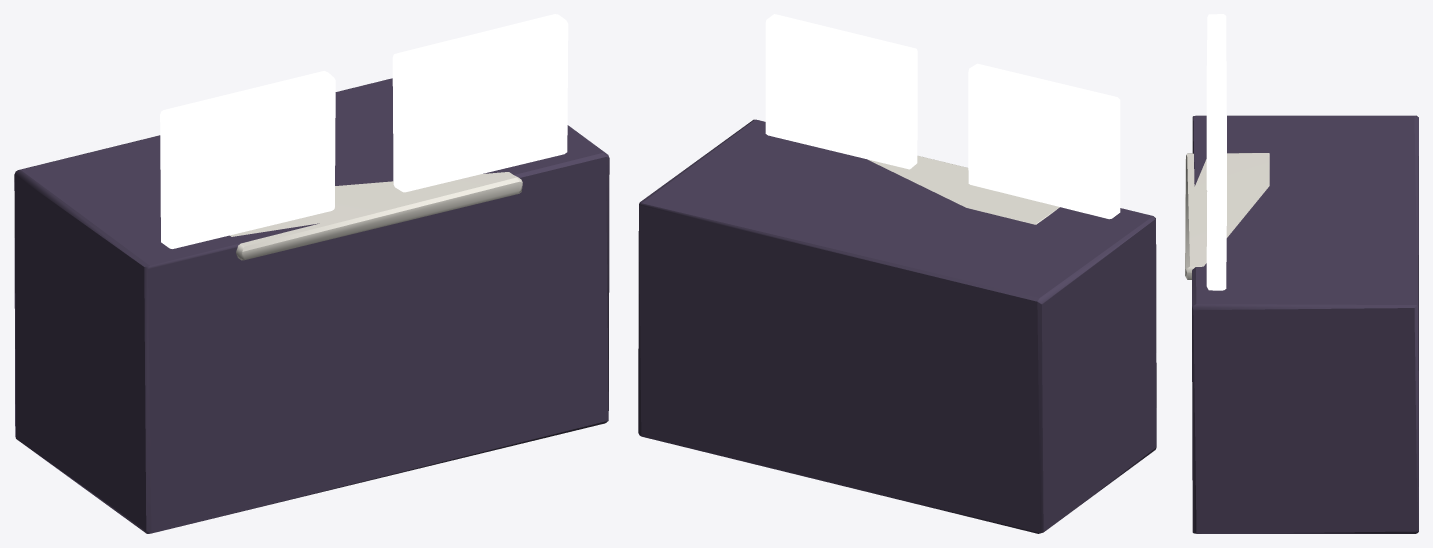
File: SM_Labor_Console_LOD1.fbx
3 views of the same model, side by side, from view 1: azimuth 30°, elevation 25°; view 2: azimuth 150°, elevation 25°; view 3: azimuth 270°, elevation 25° (orthographic). The views are drawn at different scales.
Parts seen in each view (by area): view 1: SM_Labor_Console_LOD1; view 2: SM_Labor_Console_LOD1; view 3: SM_Labor_Console_LOD1.
Boxes of the visible parts, bbox=[...] form: SM_Labor_Console_LOD1: bbox=[14, 14, 609, 533]; SM_Labor_Console_LOD1: bbox=[638, 14, 1156, 533]; SM_Labor_Console_LOD1: bbox=[1185, 14, 1418, 533].
Size of the model in its own units: 1.79 by 1.5 by 0.9224.
